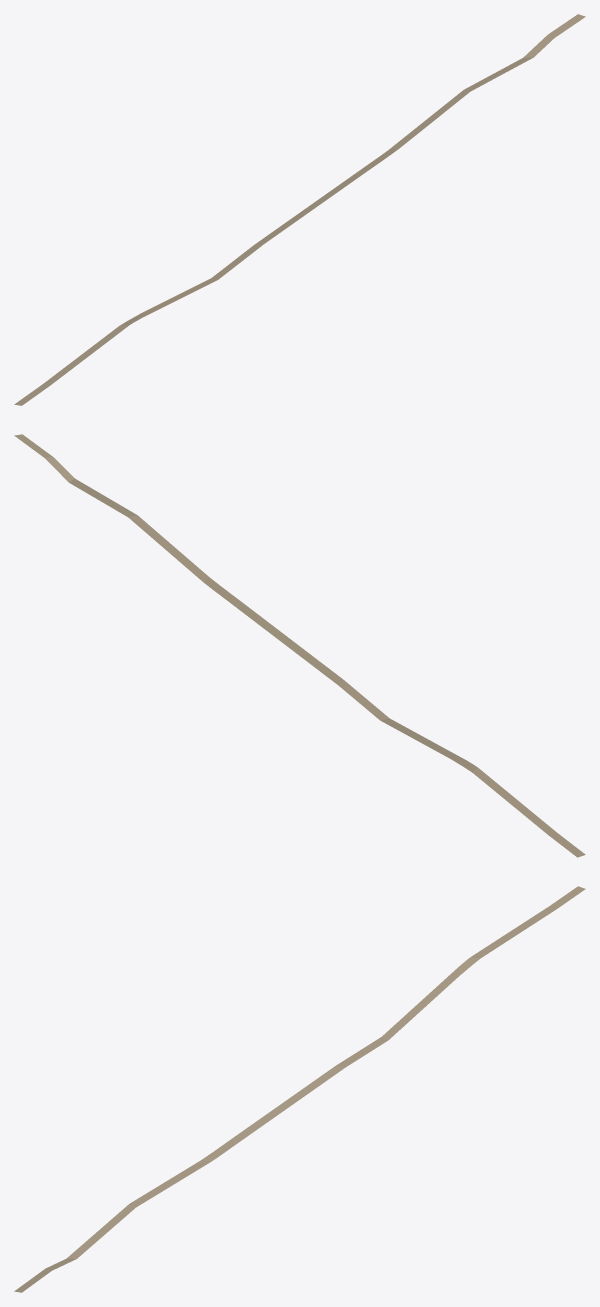
The model's file is farm_-34_-29_track.glb.
3 renders of one model, top to bottom at view 1: azimuth 90°, elevation 25°; view 2: azimuth 150°, elevation 25°; view 3: azimuth 270°, elevation 25°, orthographic. The views are drawn at different scales.
Parts seen in each view (by area): view 1: geometry_0; view 2: geometry_0; view 3: geometry_0.
Boxes of the visible parts, bbox=[...] form: geometry_0: bbox=[14, 14, 585, 405]; geometry_0: bbox=[14, 434, 585, 857]; geometry_0: bbox=[14, 886, 585, 1292].
Bounding box in the file's own units: 337 × 7.1 × 204.
